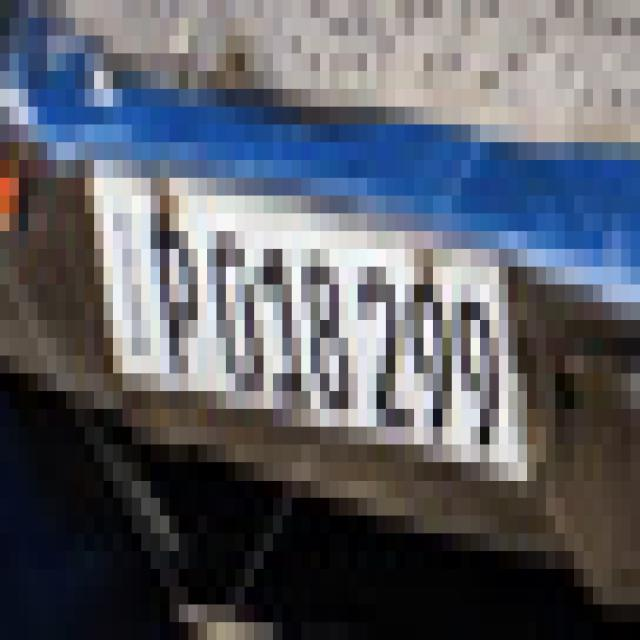0: (205, 204, 264, 394)
1: (253, 212, 305, 421)
8: (299, 238, 352, 440)
9: (398, 264, 456, 462), (451, 274, 504, 460)
P: (148, 216, 204, 387)
